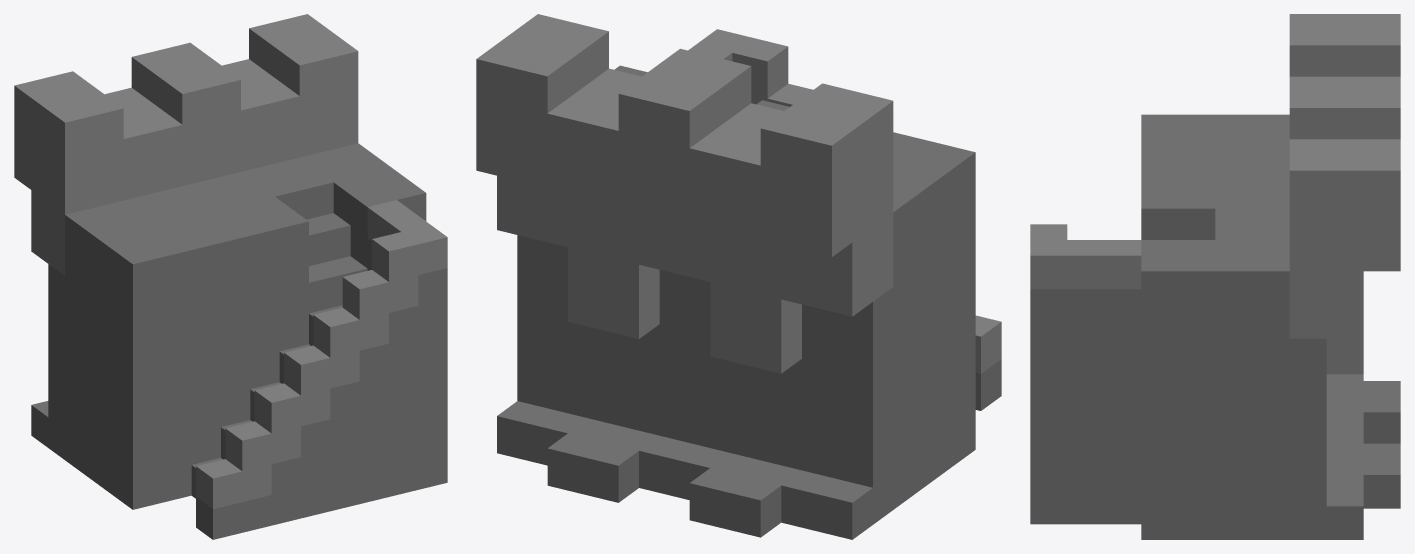
Rendered from wall.obj.
3 views of the same model, side by side, from view 1: azimuth 30°, elevation 25°; view 2: azimuth 150°, elevation 25°; view 3: azimuth 270°, elevation 25° (orthographic). The views are drawn at different scales.
Size of the model in its own units: 10 by 11 by 10.
Materials: 1 (1 with a texture image).
